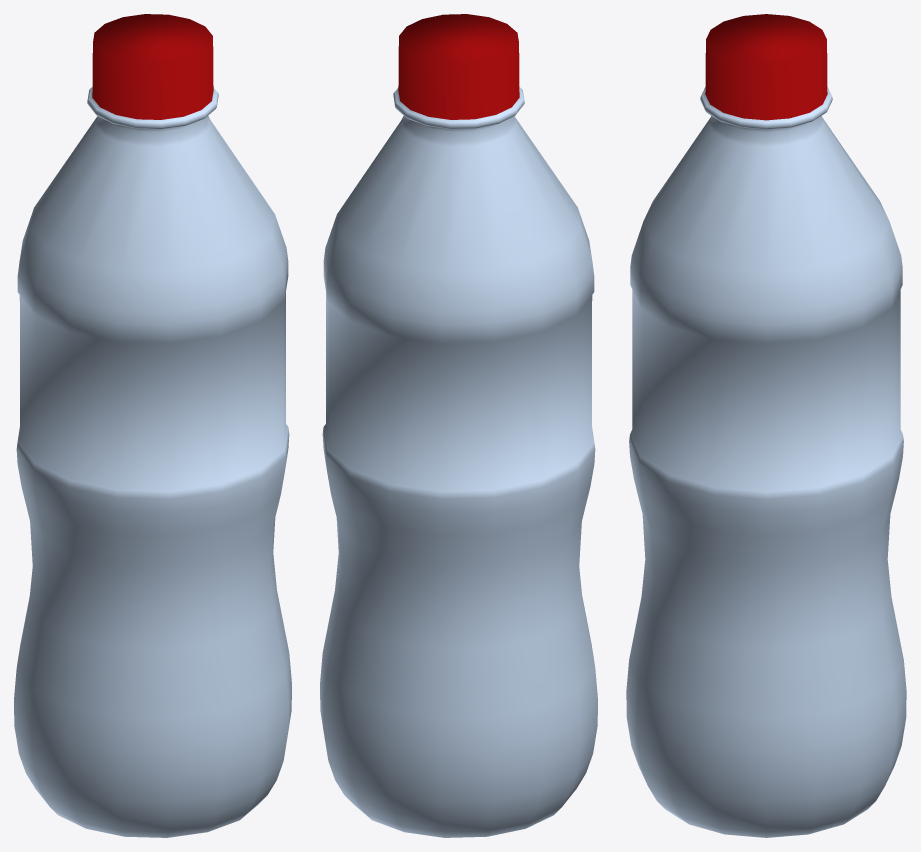
File: BotellaPlastico.fbx
3 renders of one model, left to right at view 1: azimuth 30°, elevation 25°; view 2: azimuth 150°, elevation 25°; view 3: azimuth 270°, elevation 25°, orthographic.
Visible parts, largest first — view 1: Plane; view 2: Plane; view 3: Plane.
Boxes of the visible parts, x1,y1,x2,y2 form: Plane: (14,14,291,837); Plane: (320,14,597,837); Plane: (626,14,906,837).
Size of the model in its own units: 6.43 by 19.17 by 6.43.
